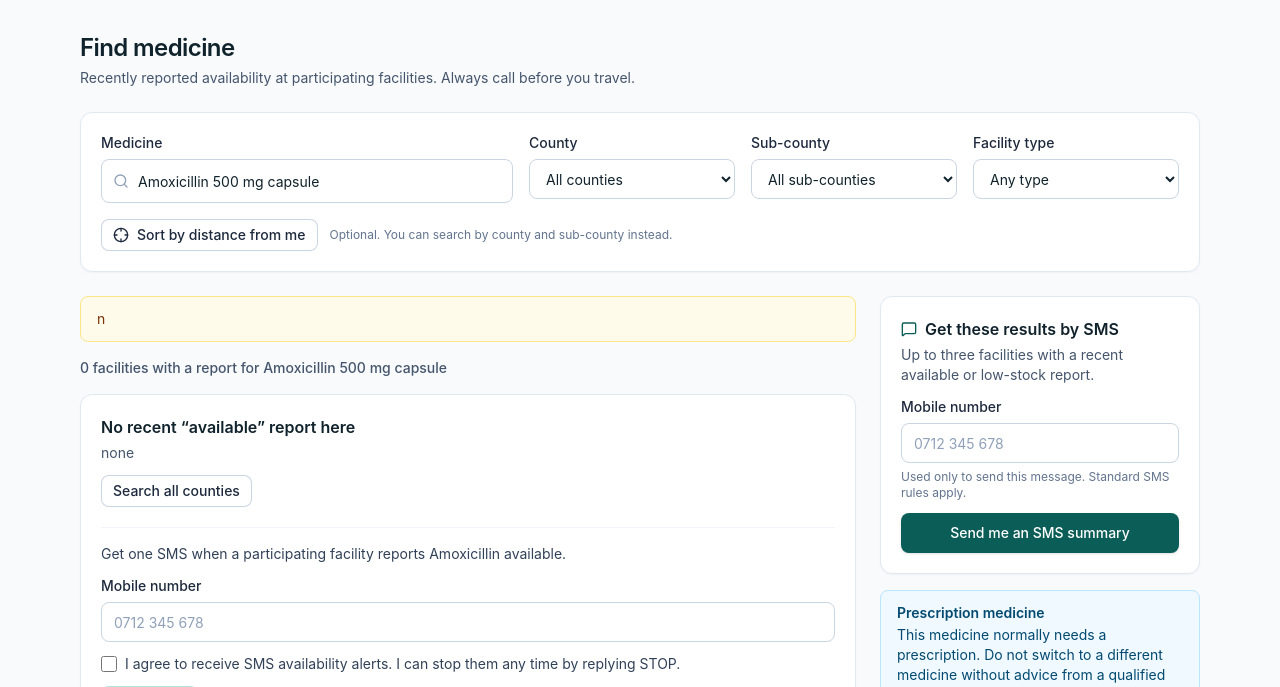
Test: Search page › requires consent before subscribing
The image size is (1280, 687).
Type "0712345678" into the field labelled "Mobile number" below "reports" at (468, 622), box 101,602 -> 835,642
(page scrolled)
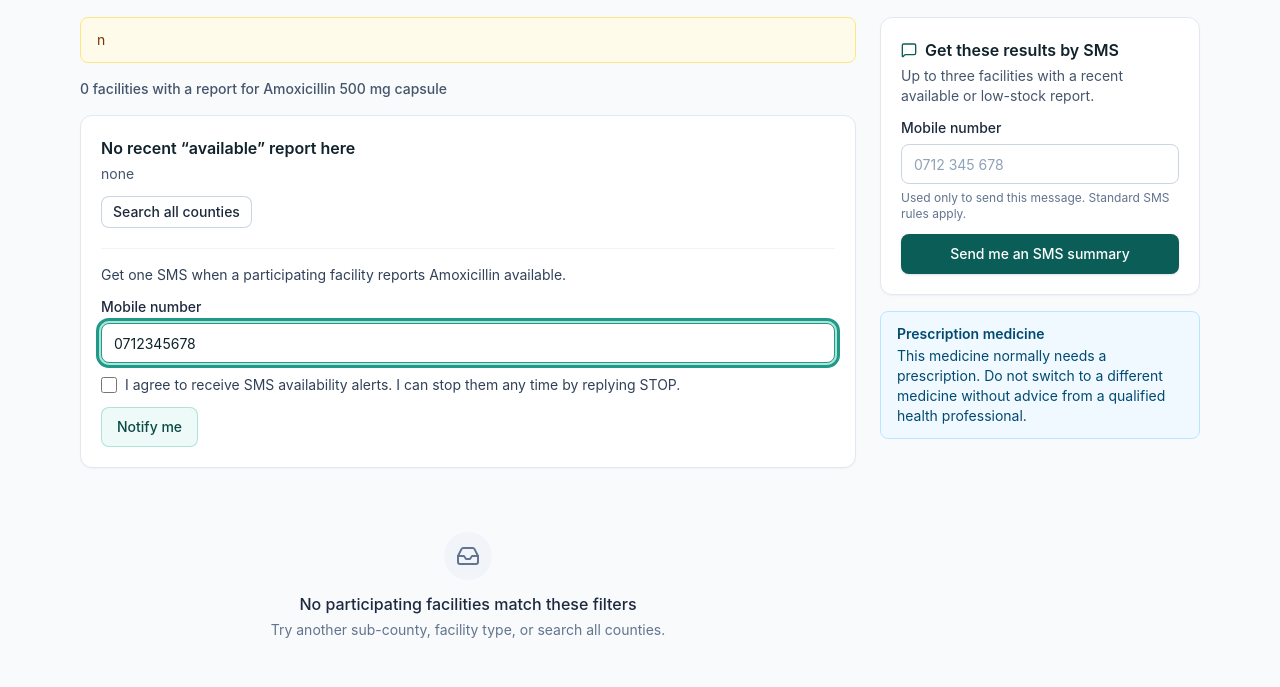
Click the button "Notify me" at (150, 427), box 101,407 -> 198,447
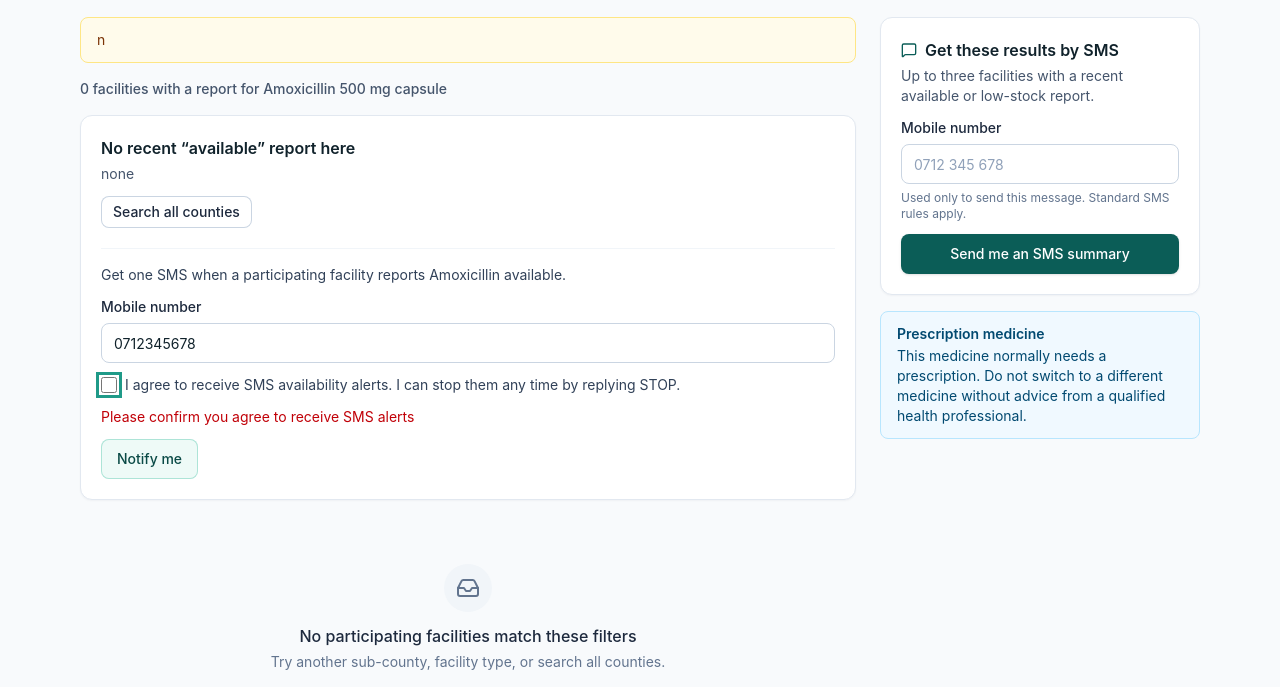
Expected: the text "Please confirm you agree to receive SMS alerts" is shown, 101,408 -> 414,425
